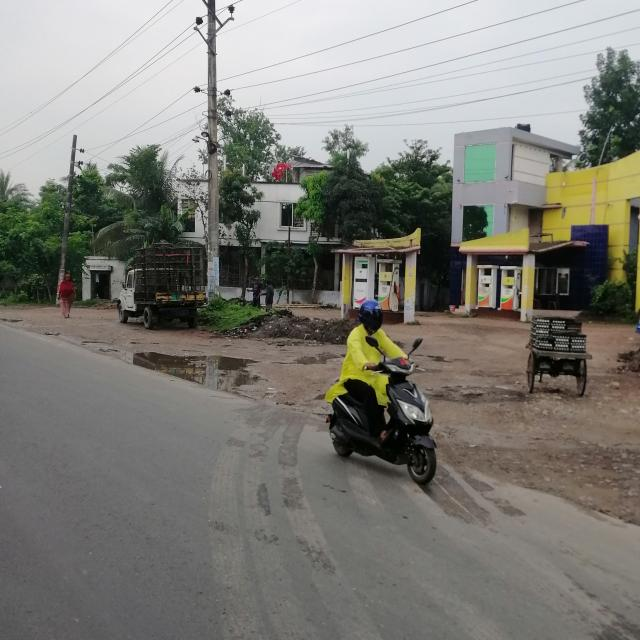Motorbike: (314, 336, 451, 485)
